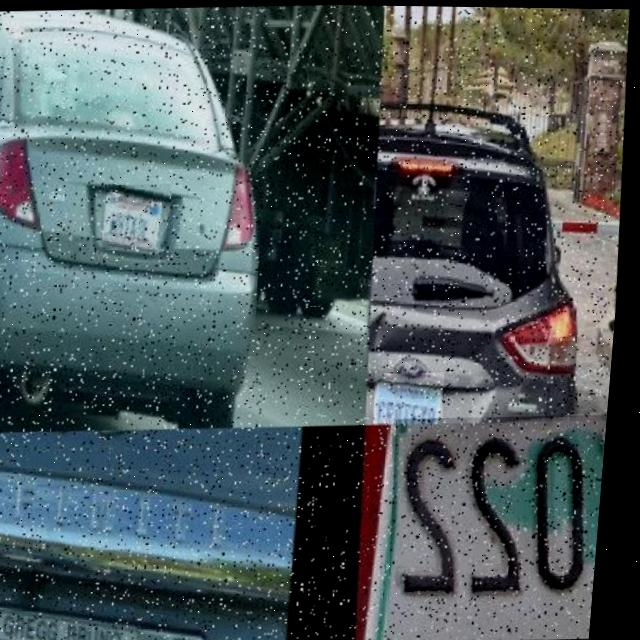LicensePlate: (388, 410, 614, 640), (104, 182, 175, 249), (381, 372, 450, 422)
